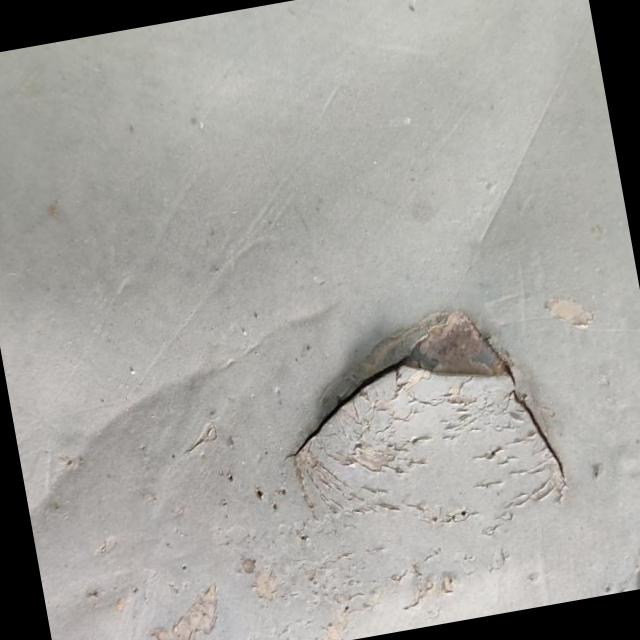Crack: (289, 309, 568, 537)
